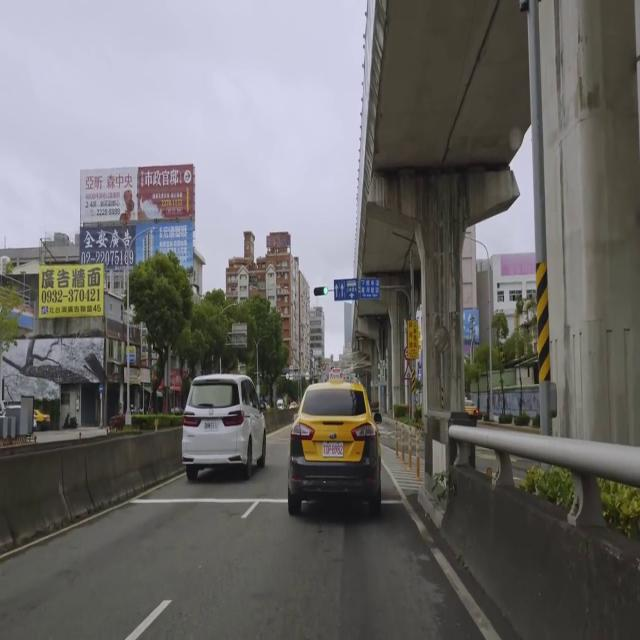green light: (313, 287, 329, 296)
